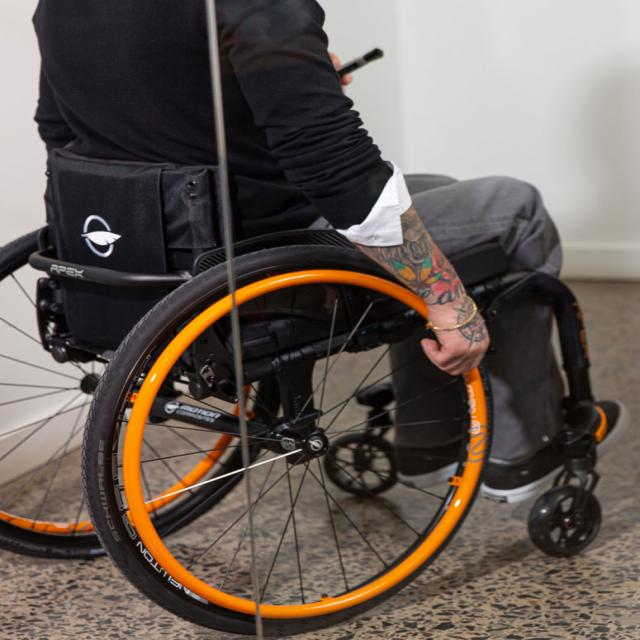wheelchairs: (6, 151, 619, 638)
